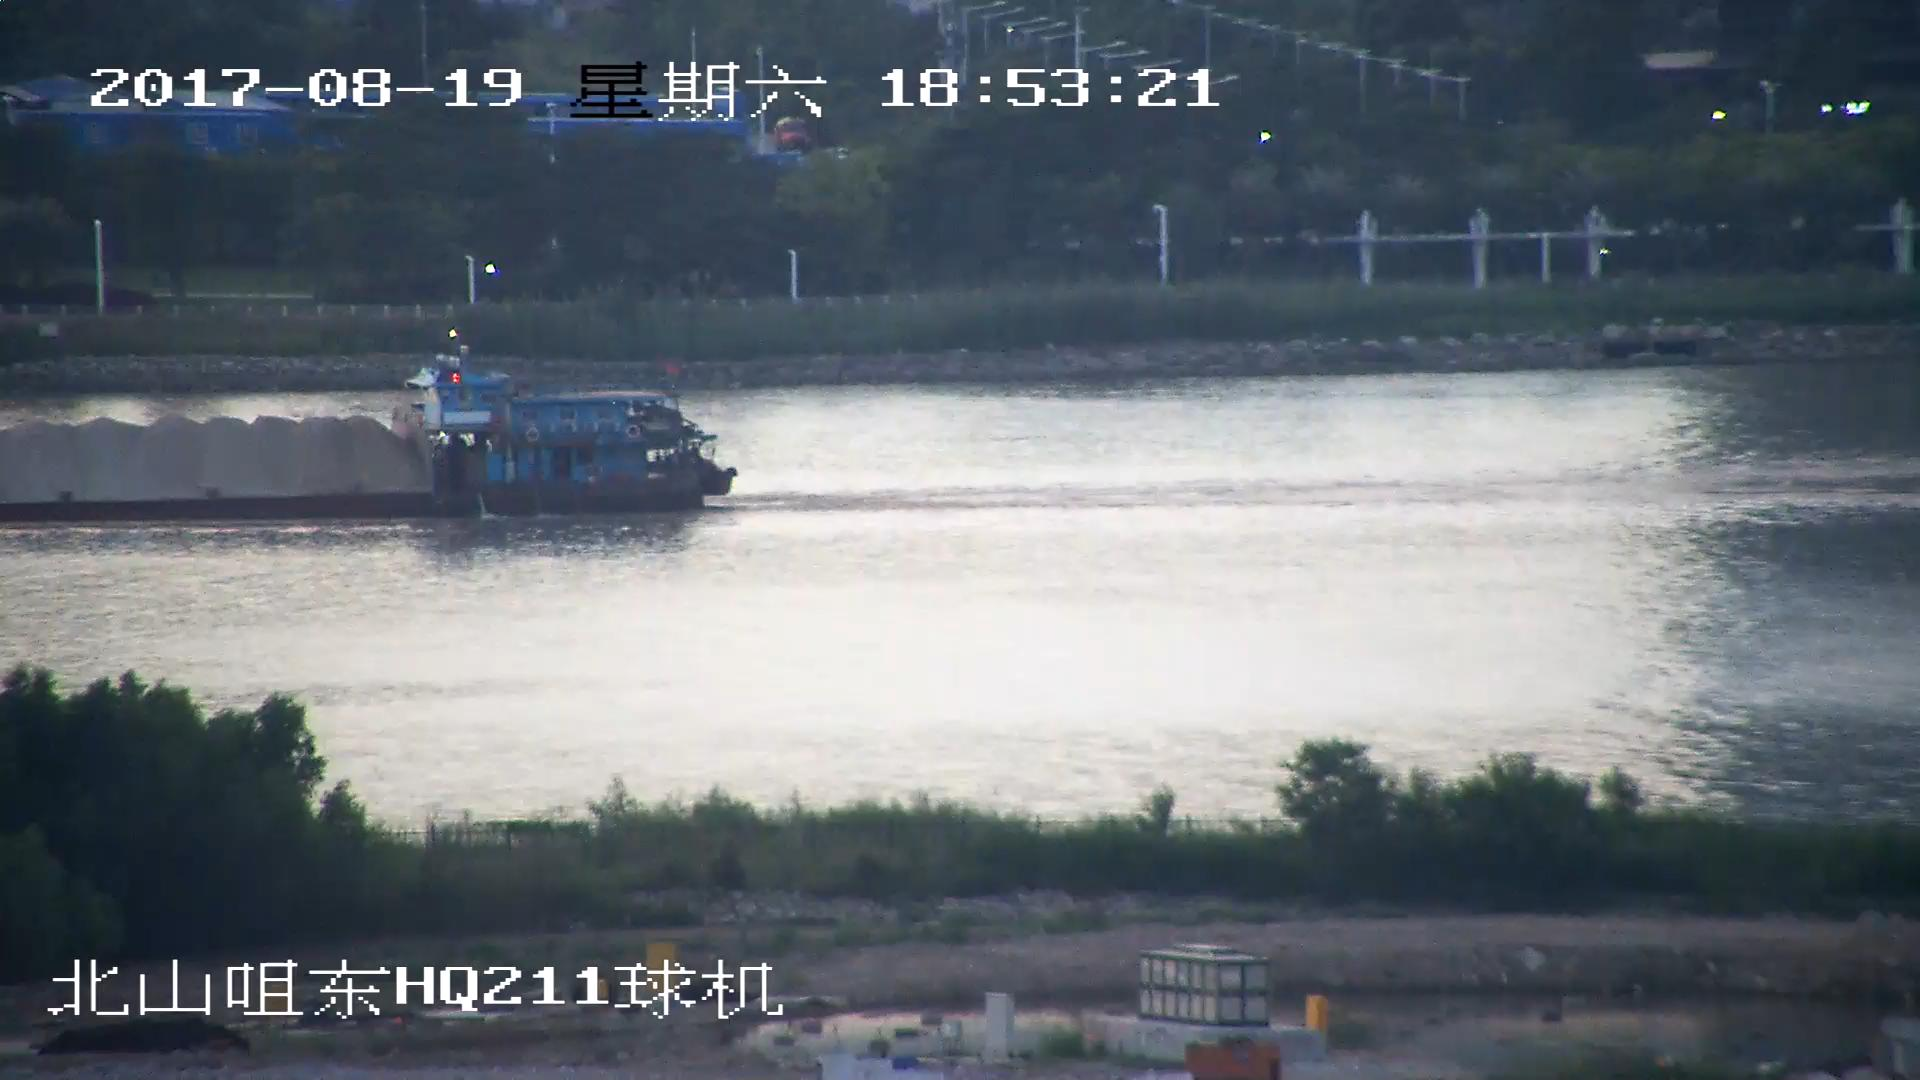ore carrier: (1, 337, 742, 521)
